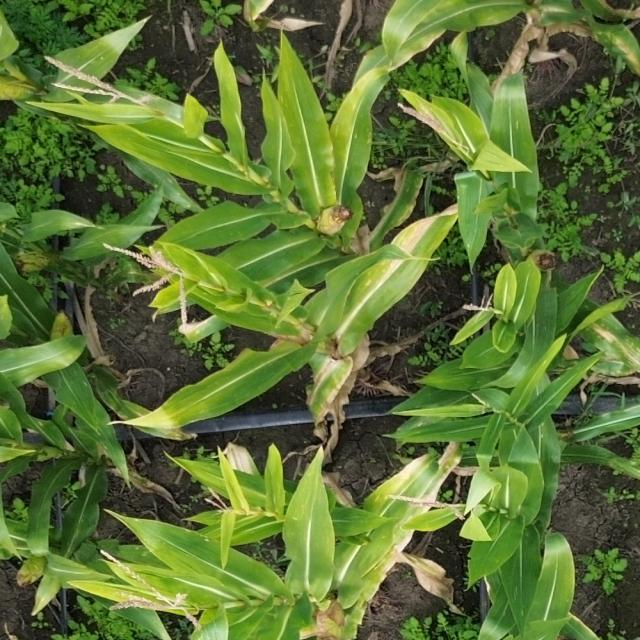gray-leaf-spot: (595, 324, 640, 368), (333, 106, 381, 146), (602, 22, 640, 66), (504, 576, 536, 616)
northern-leaf-blight: (360, 241, 425, 310), (306, 352, 346, 405)
southern-leaf-blight: (132, 516, 213, 553), (288, 469, 333, 534), (71, 39, 122, 68)
